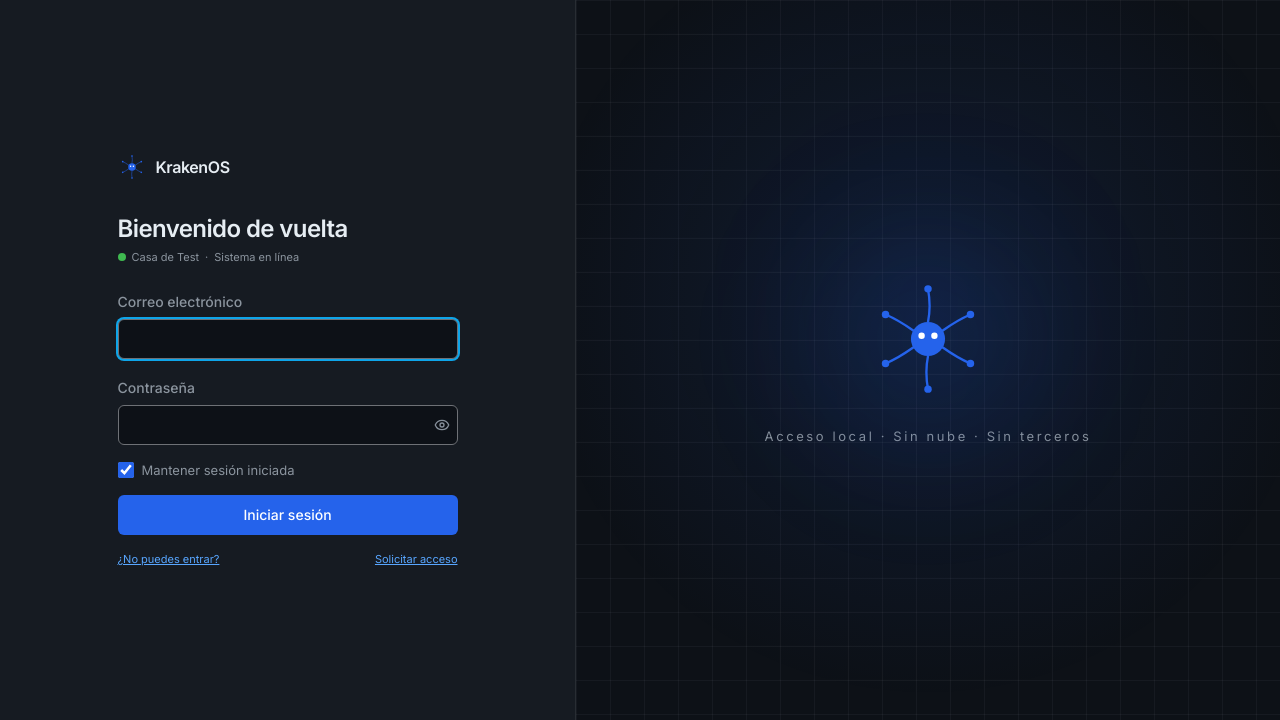
Test case: LoginPage › distingue un error de red del de credenciales (US-55)
Type "admin@krakenos.local" into the field labelled "Correo electrónico" at [288, 339], box x1=118 y1=319 x2=458 y2=359
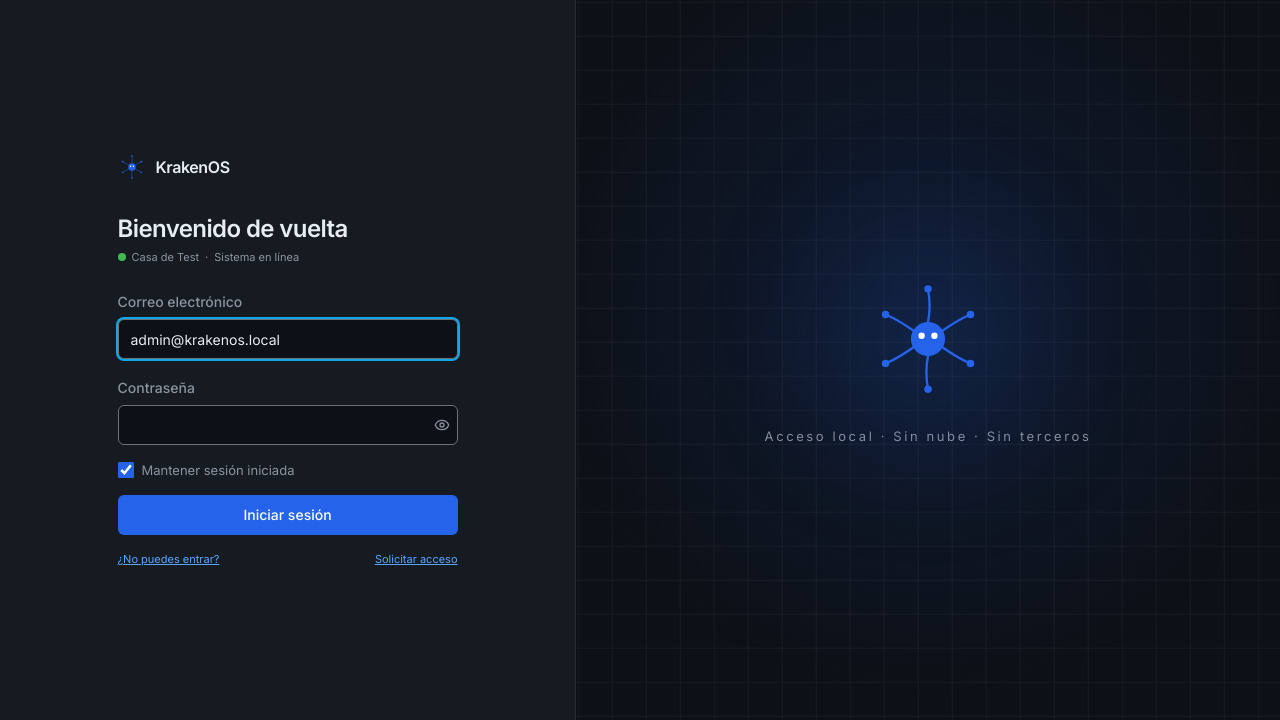
Type "password123" into the password field labelled "Contraseña" at [288, 425], box x1=118 y1=405 x2=458 y2=445
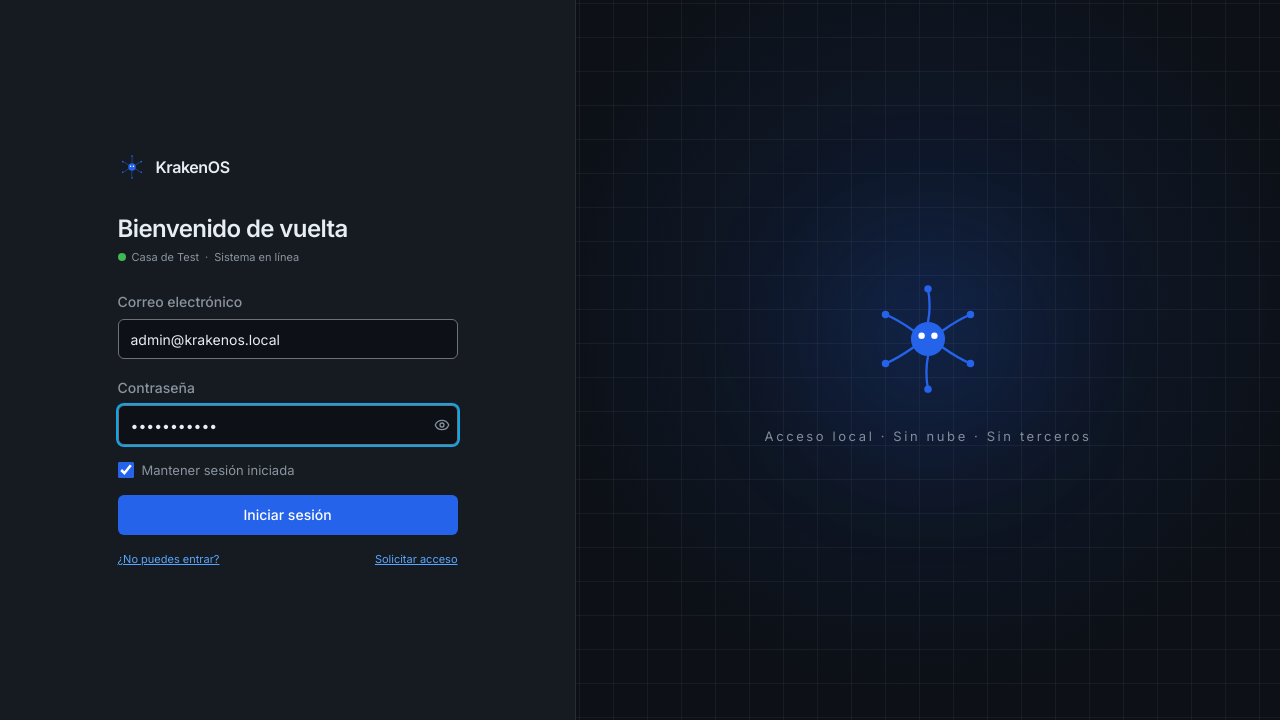
Click the button "Iniciar sesión" at [288, 515], box x1=118 y1=495 x2=458 y2=535
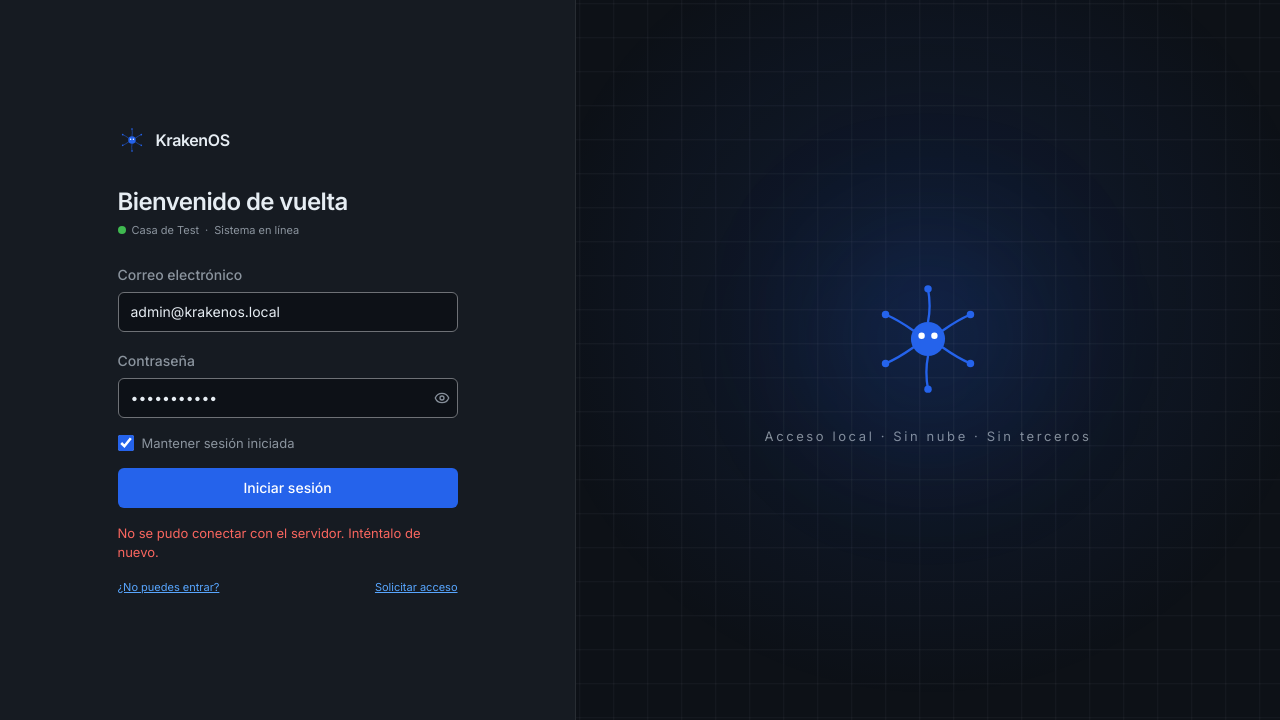
Check: the text "No se pudo conectar con el servidor. Inténtalo de nuevo." is shown, box x1=118 y1=524 x2=458 y2=562
